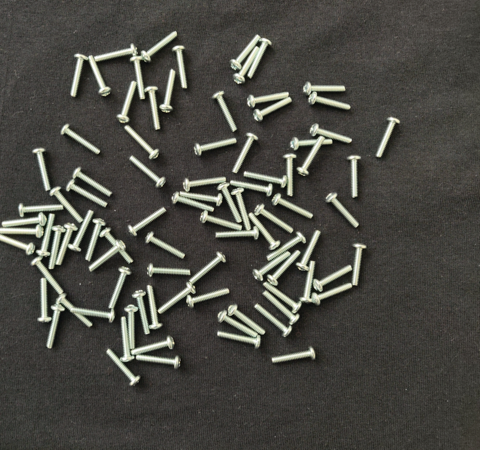longscrew: (58, 293, 97, 334), (31, 256, 66, 298), (104, 347, 139, 387), (263, 233, 308, 263), (161, 281, 197, 317), (294, 137, 328, 175), (126, 155, 165, 188), (326, 192, 359, 231), (147, 228, 189, 258), (267, 251, 303, 286), (227, 305, 269, 334), (253, 307, 295, 336), (72, 166, 110, 198), (67, 180, 105, 212), (122, 126, 160, 158), (251, 252, 296, 279), (87, 243, 129, 271), (211, 93, 239, 135), (131, 204, 167, 236), (255, 205, 296, 233), (249, 212, 280, 249), (79, 218, 105, 262), (216, 311, 258, 338), (144, 28, 179, 60), (231, 134, 259, 174), (262, 282, 301, 310), (64, 123, 98, 155), (100, 230, 135, 261), (260, 293, 298, 321), (294, 229, 322, 267), (194, 252, 226, 285), (66, 211, 93, 250), (246, 39, 273, 77), (130, 333, 174, 356), (255, 97, 291, 125), (231, 33, 258, 70), (235, 45, 262, 82), (20, 199, 62, 222), (217, 223, 259, 246), (0, 222, 43, 244), (2, 208, 45, 230), (199, 209, 242, 231), (179, 188, 222, 210), (194, 136, 237, 158), (231, 176, 274, 198), (243, 166, 286, 188), (378, 117, 401, 158), (173, 194, 215, 216), (185, 172, 227, 194), (95, 42, 139, 63), (273, 196, 314, 218), (119, 75, 137, 124), (90, 49, 108, 98), (348, 151, 366, 200), (351, 242, 369, 291), (35, 277, 53, 326), (46, 220, 64, 269), (308, 124, 357, 142), (288, 132, 337, 150), (270, 349, 319, 367), (215, 330, 264, 348), (58, 221, 76, 269), (39, 210, 57, 258), (298, 262, 319, 302), (187, 289, 234, 306), (249, 90, 291, 109), (110, 267, 128, 311), (33, 144, 49, 192), (70, 52, 86, 100), (176, 42, 192, 90), (311, 284, 349, 304), (313, 269, 351, 289), (160, 66, 176, 113), (284, 151, 299, 200), (0, 234, 33, 256), (132, 55, 147, 103), (146, 86, 161, 133), (117, 318, 133, 362), (124, 307, 140, 351), (133, 289, 149, 333), (146, 266, 195, 280), (146, 285, 161, 329), (49, 306, 64, 350), (306, 96, 353, 109), (303, 80, 350, 93), (74, 308, 113, 321), (136, 357, 184, 366)
